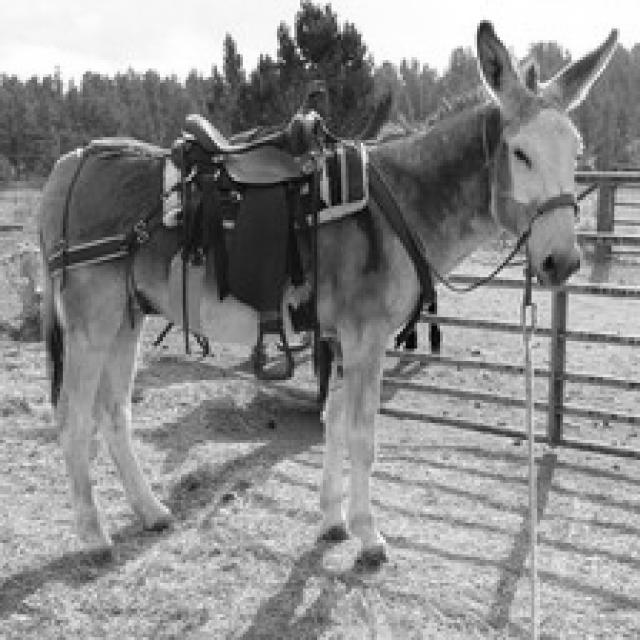Donkey: (31, 17, 620, 569)
